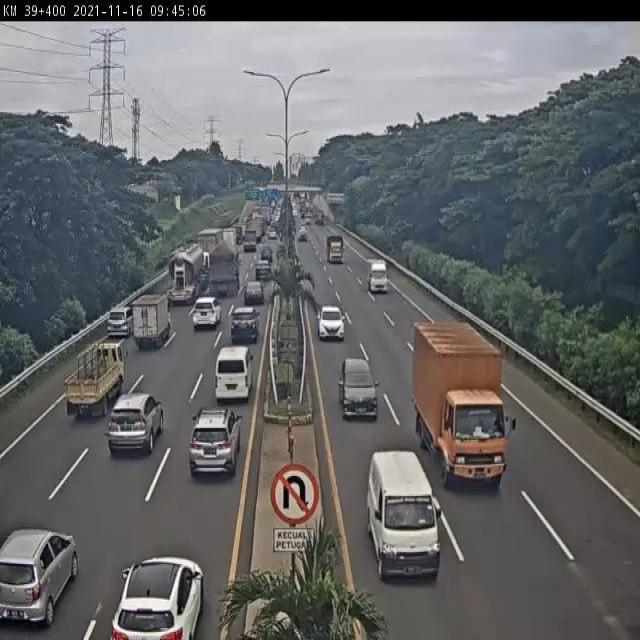car: (366, 452, 441, 581), (190, 408, 244, 475), (109, 392, 163, 456), (339, 356, 378, 421), (316, 304, 346, 340), (232, 305, 259, 343), (101, 308, 131, 341), (192, 299, 220, 328), (244, 278, 266, 302)
small bus: (214, 347, 252, 401)
small truck: (64, 340, 125, 417), (129, 297, 169, 355), (366, 259, 390, 296)
truck-l-: (205, 245, 240, 300)
truck-m-: (413, 318, 507, 486)
truck-xl-: (167, 242, 210, 302)
